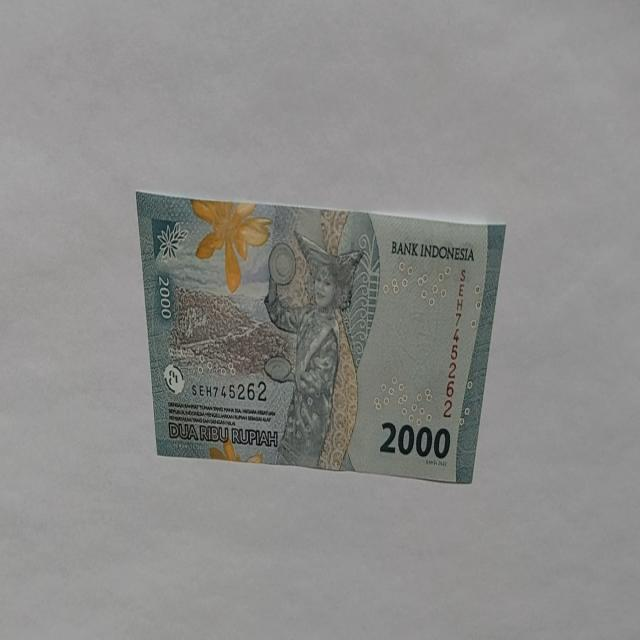dua ribu rupiah: (135, 192, 507, 484), (262, 230, 364, 470), (189, 198, 272, 294)
